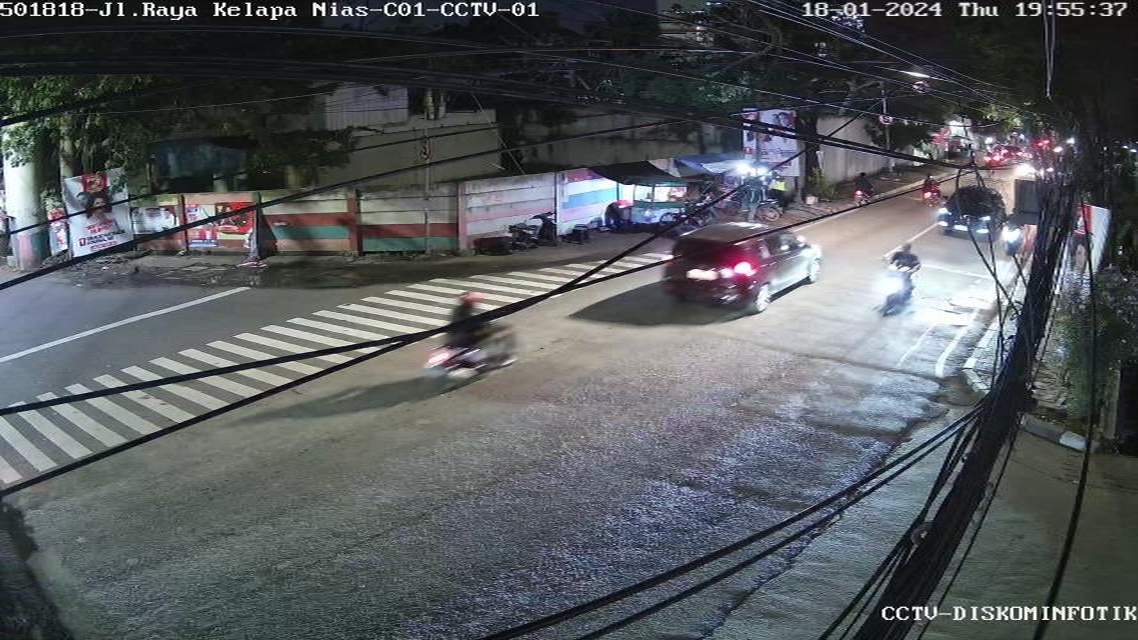Gerobak: (628, 183, 693, 225)
